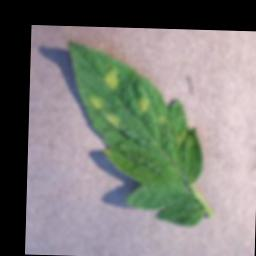Leaf_Mold: (100, 65, 123, 93), (133, 94, 155, 117), (88, 93, 109, 112), (103, 112, 122, 130)
